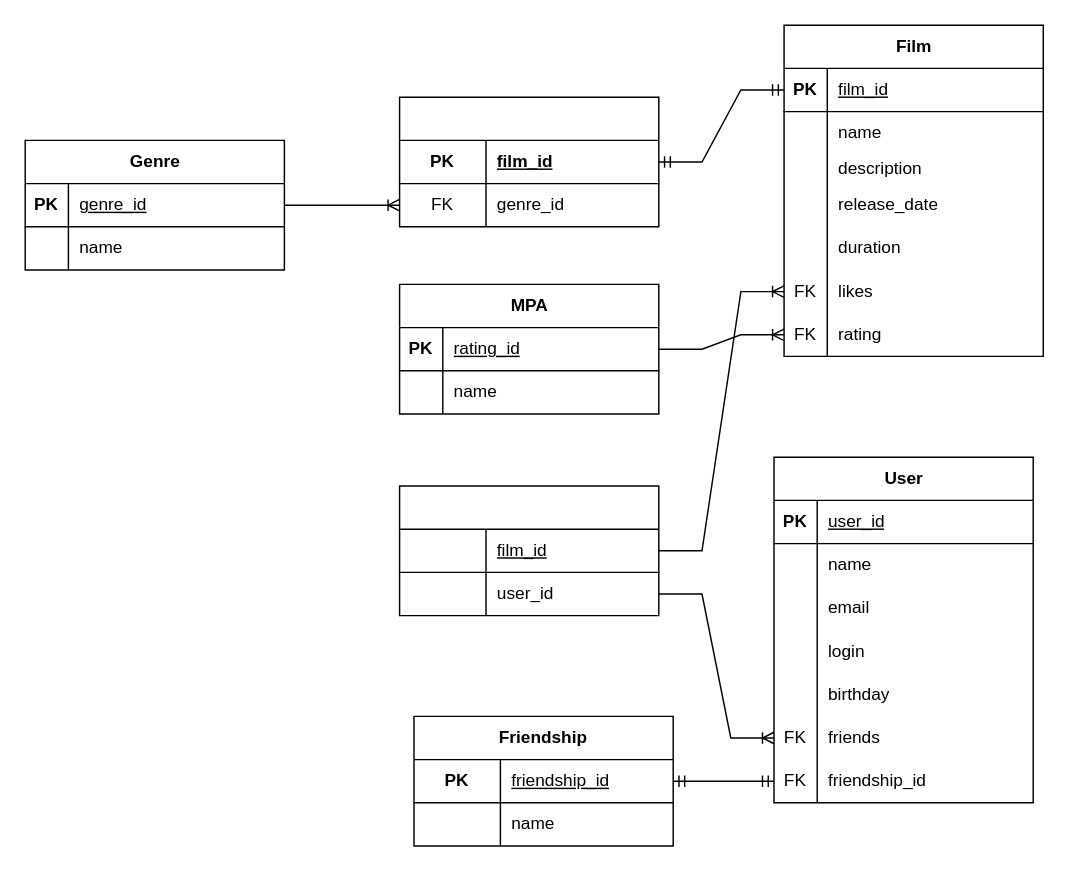
Some shapes in this 1068 by 871 pixel diagram are drawn without their labels. The shapes that lost their labels are listed below. From the top down, each one's box as (x1, y1, x2, y2) in pixels, then its label:
(398, 96, 659, 227): Film_genre
(398, 485, 659, 616): Like
